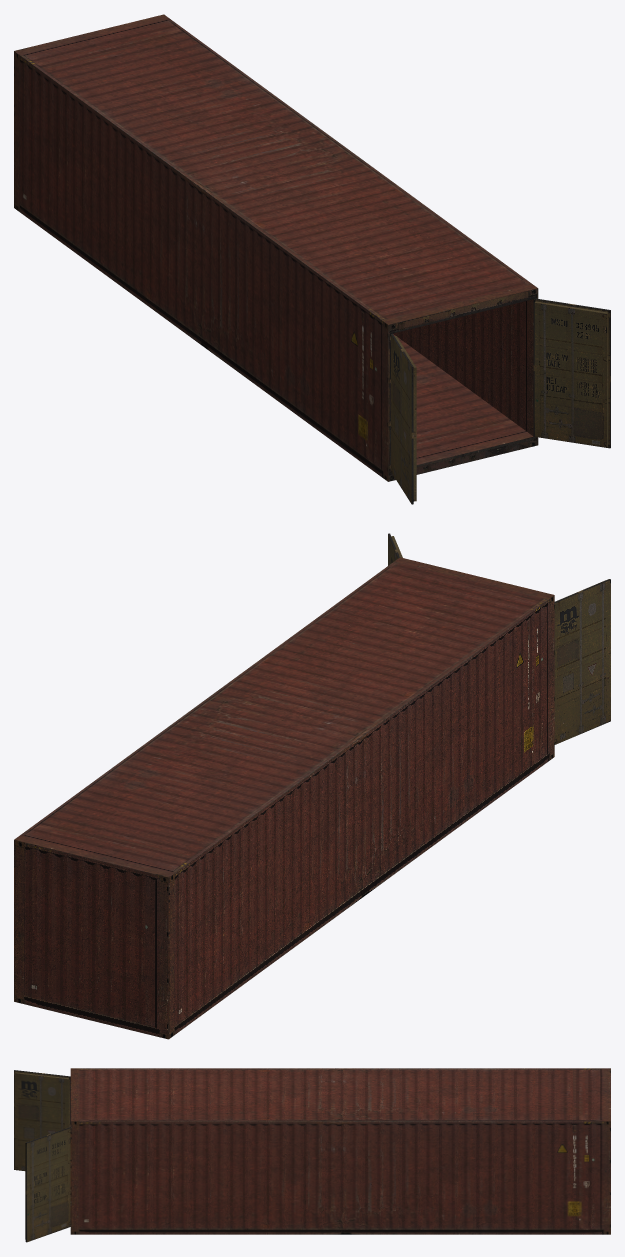
The model's file is shipping_container_mx_1_hollow_1.glb.
3 views of the same model, one above another, from view 1: azimuth 30°, elevation 25°; view 2: azimuth 150°, elevation 25°; view 3: azimuth 270°, elevation 25° (orthographic). The views are drawn at different scales.
Parts seen in each view (by area): view 1: shipping_container_mx_1_hollow_1, shipping_container_mx_1_door_1_2, shipping_container_mx_1_door_1_1; view 2: shipping_container_mx_1_hollow_1, shipping_container_mx_1_door_1_1; view 3: shipping_container_mx_1_hollow_1, shipping_container_mx_1_door_1_2, shipping_container_mx_1_door_1_1.
Part boxes in pixels (x1,y1,x2,y2): shipping_container_mx_1_hollow_1: (14,14,538,481); shipping_container_mx_1_door_1_2: (533,298,610,448); shipping_container_mx_1_door_1_1: (391,333,416,504); shipping_container_mx_1_hollow_1: (14,557,554,1039); shipping_container_mx_1_door_1_1: (554,579,610,744); shipping_container_mx_1_hollow_1: (70,1068,610,1234); shipping_container_mx_1_door_1_2: (25,1127,70,1242); shipping_container_mx_1_door_1_1: (14,1070,70,1170).
Bounding box in the file's own units: 3.46 × 2.5 × 11.94.
1 material, 1 textured.
